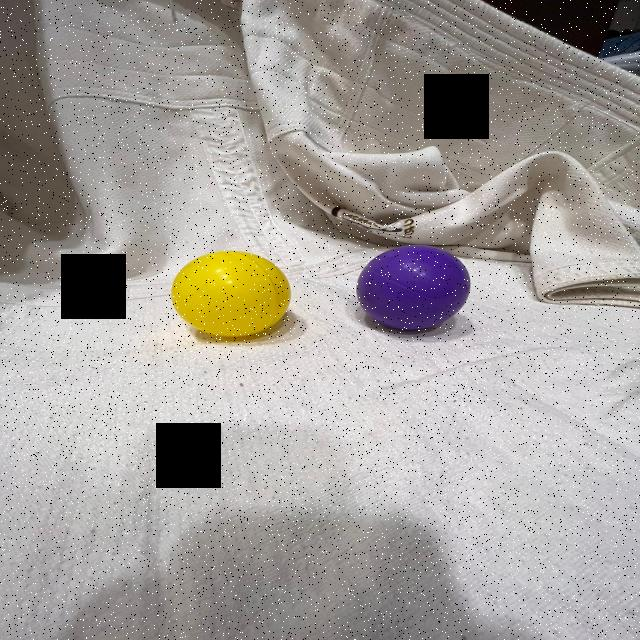ball: (169, 249, 293, 342), (357, 242, 473, 335)
